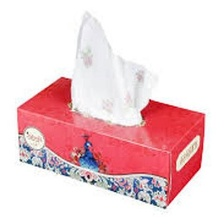book: (14, 73, 209, 211)
tissue: (66, 7, 162, 129)
